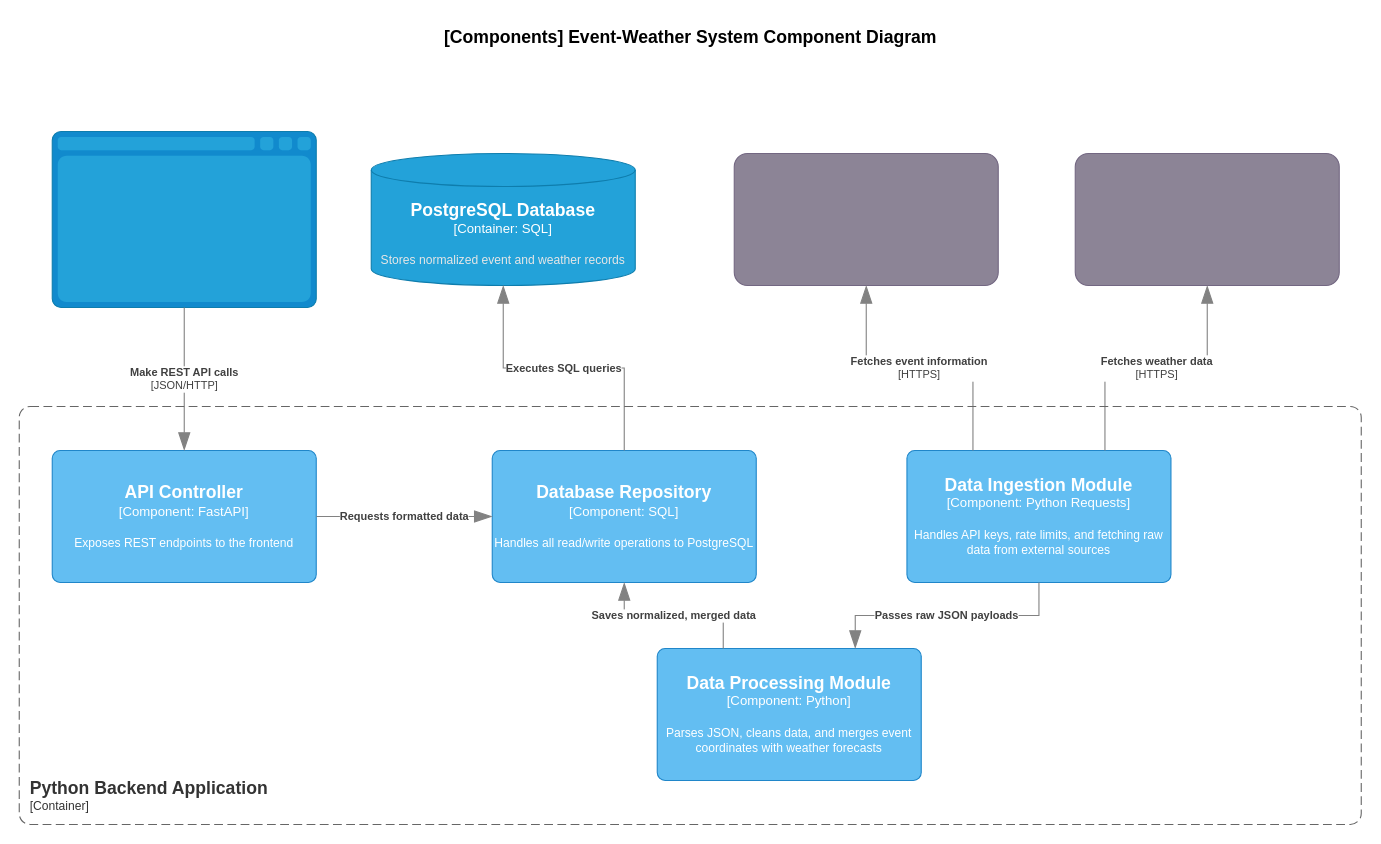
Some shapes in this 1381 by 844 pixel diagram are drawn without their labels. The centre of each missing label's shape, as x and y in pixels:
"Frontend Web Page [Container: JavaScript] Sends requests for event data" belongs at (183,218).
"OpenMeteo API [External System] Second Open Data Source" belongs at (1206,218).
"Ticketmaster API [External System] First Open Data Source" belongs at (865,218).
